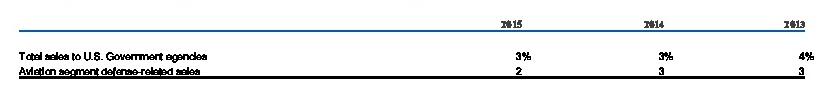table: (0, 0, 836, 102)
